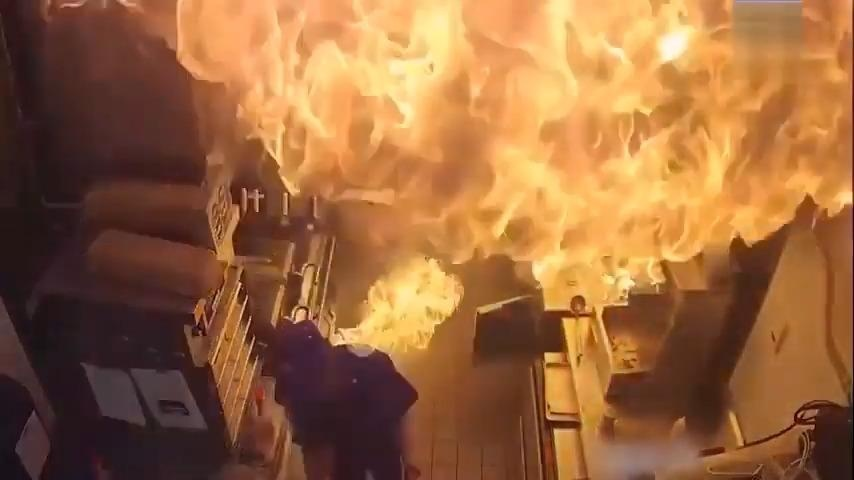fire: (130, 0, 854, 319)
